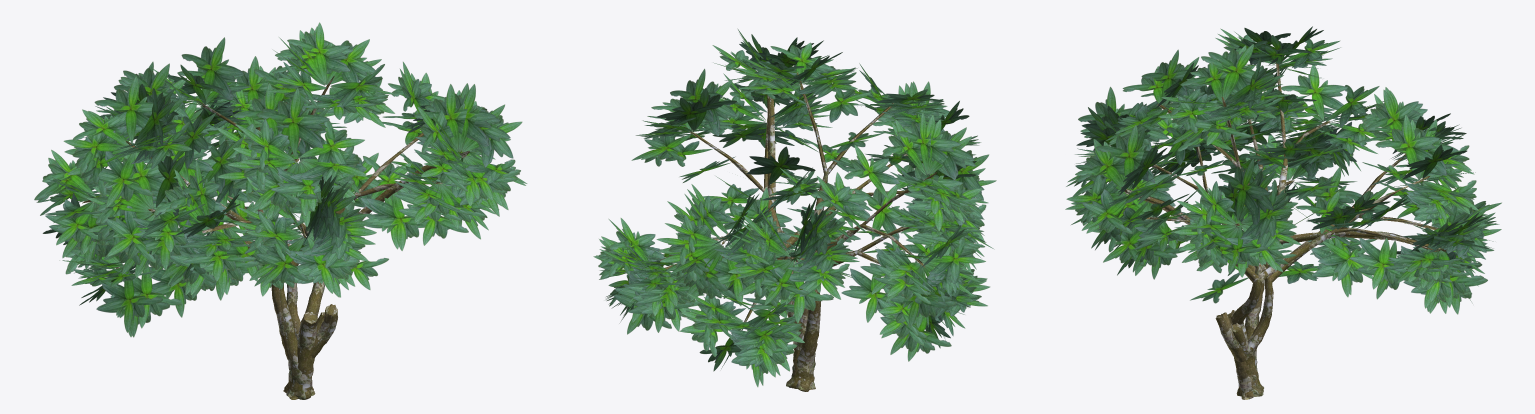
The model's file is bush_04_B_001.glb.
The picture shows the model from 3 angles, left to right: view 1: azimuth 30°, elevation 25°; view 2: azimuth 150°, elevation 25°; view 3: azimuth 270°, elevation 25°; orthographic projection. The views are drawn at different scales.
Visible parts, largest first — view 1: bush_04_B.001; view 2: bush_04_B.001; view 3: bush_04_B.001.
Boxes of the visible parts, <box> form: bush_04_B.001: <box>34,22,527,399</box>; bush_04_B.001: <box>593,29,996,391</box>; bush_04_B.001: <box>1065,26,1501,399</box>.
Size of the model in its own units: 1.15 by 0.9325 by 1.14.
2 materials, 2 textured.
